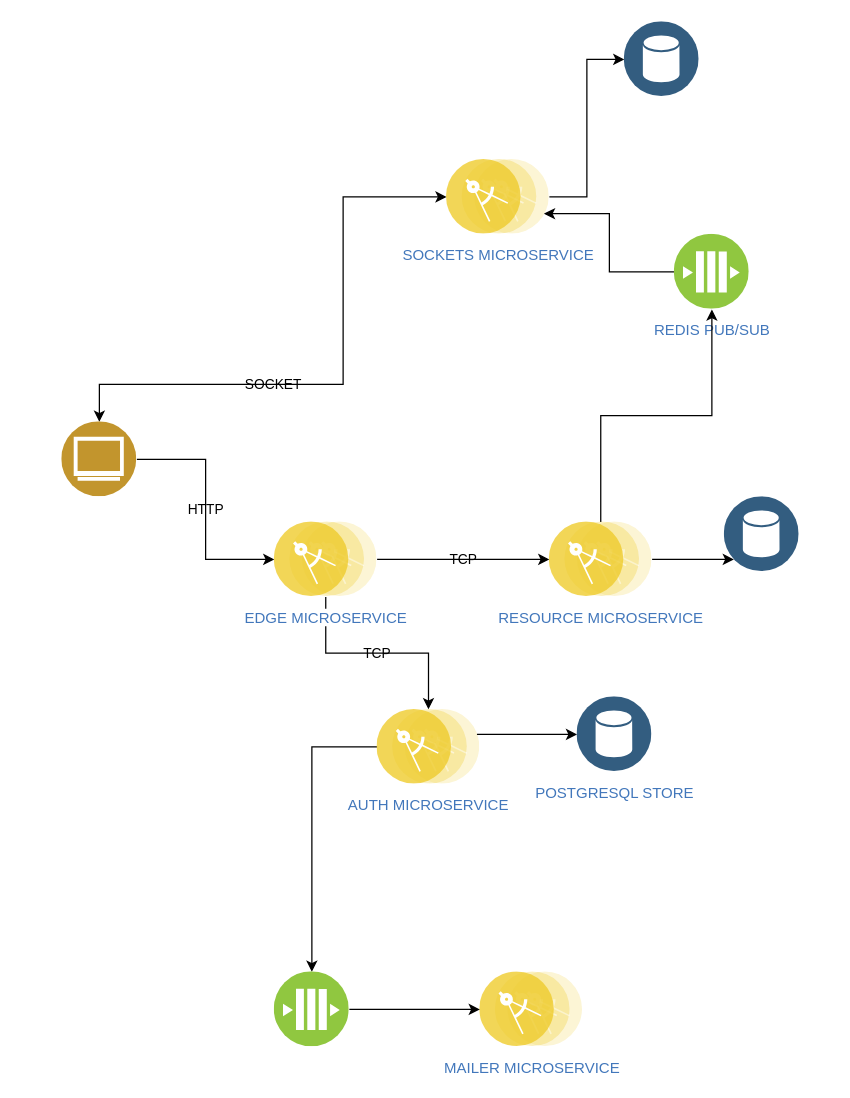
Image size: 850x1098. Some labels were removed from this diagram. The shapes that lost their labels are listed below. From the top down, each one's box as (x1, y1, x2, y2) in pixels, then its label:
(624, 21, 699, 96): REDIS STORE
(61, 421, 136, 496): CLIENT APPLICATION
(724, 496, 799, 571): MONGODB STORE
(274, 971, 349, 1046): RABBITMQ MESSAGE QUEUE
